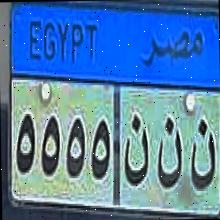5: (88, 108, 114, 190), (14, 108, 38, 180), (39, 110, 63, 180), (64, 108, 86, 184)
noon: (154, 111, 185, 192), (121, 111, 152, 192), (188, 116, 217, 194)
